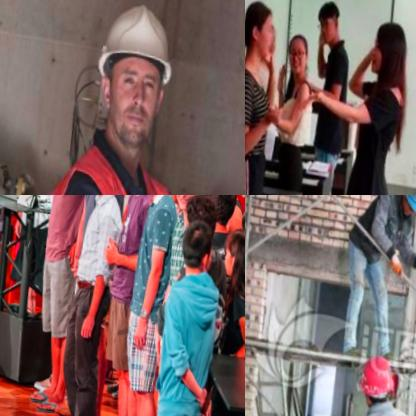head: (363, 9, 412, 80), (176, 213, 220, 271), (245, 0, 277, 56), (215, 219, 245, 276), (178, 195, 218, 237), (280, 23, 312, 74), (312, 0, 344, 43), (203, 195, 236, 219), (169, 195, 206, 208), (238, 214, 245, 272)
helmet: (75, 0, 186, 161), (354, 348, 398, 410), (398, 195, 416, 215)
